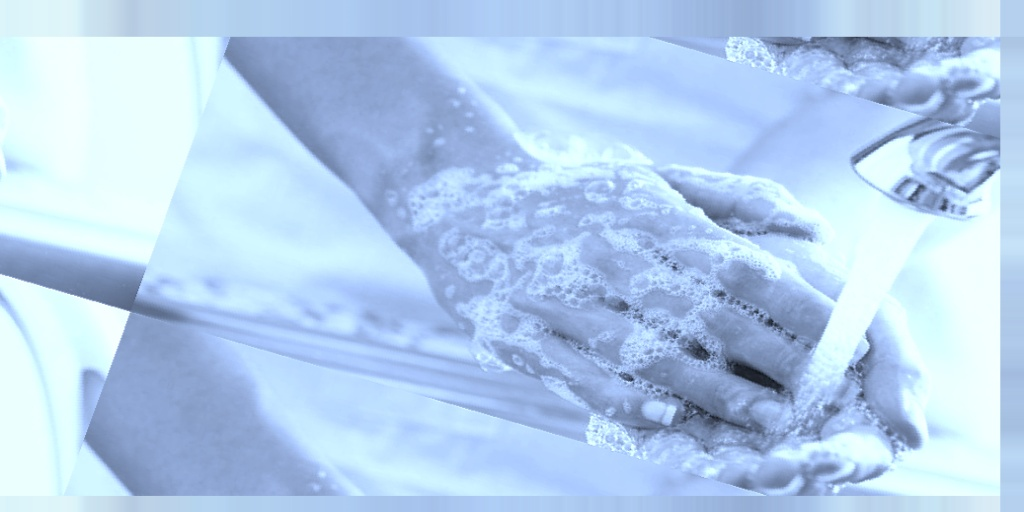washing hand: (304, 0, 1023, 511)
